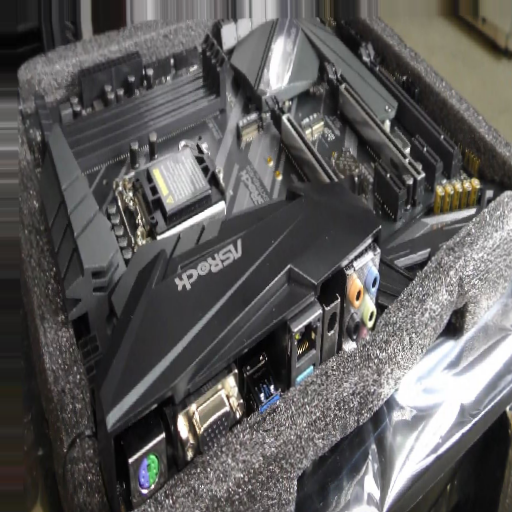CPU: (113, 149, 229, 231)
GPU: (361, 42, 465, 174), (326, 61, 426, 196), (264, 93, 339, 188)
MOTHERBOARD: (15, 13, 505, 487)
RAM: (36, 36, 231, 154)
SSD: (297, 108, 333, 144), (237, 110, 268, 142)
